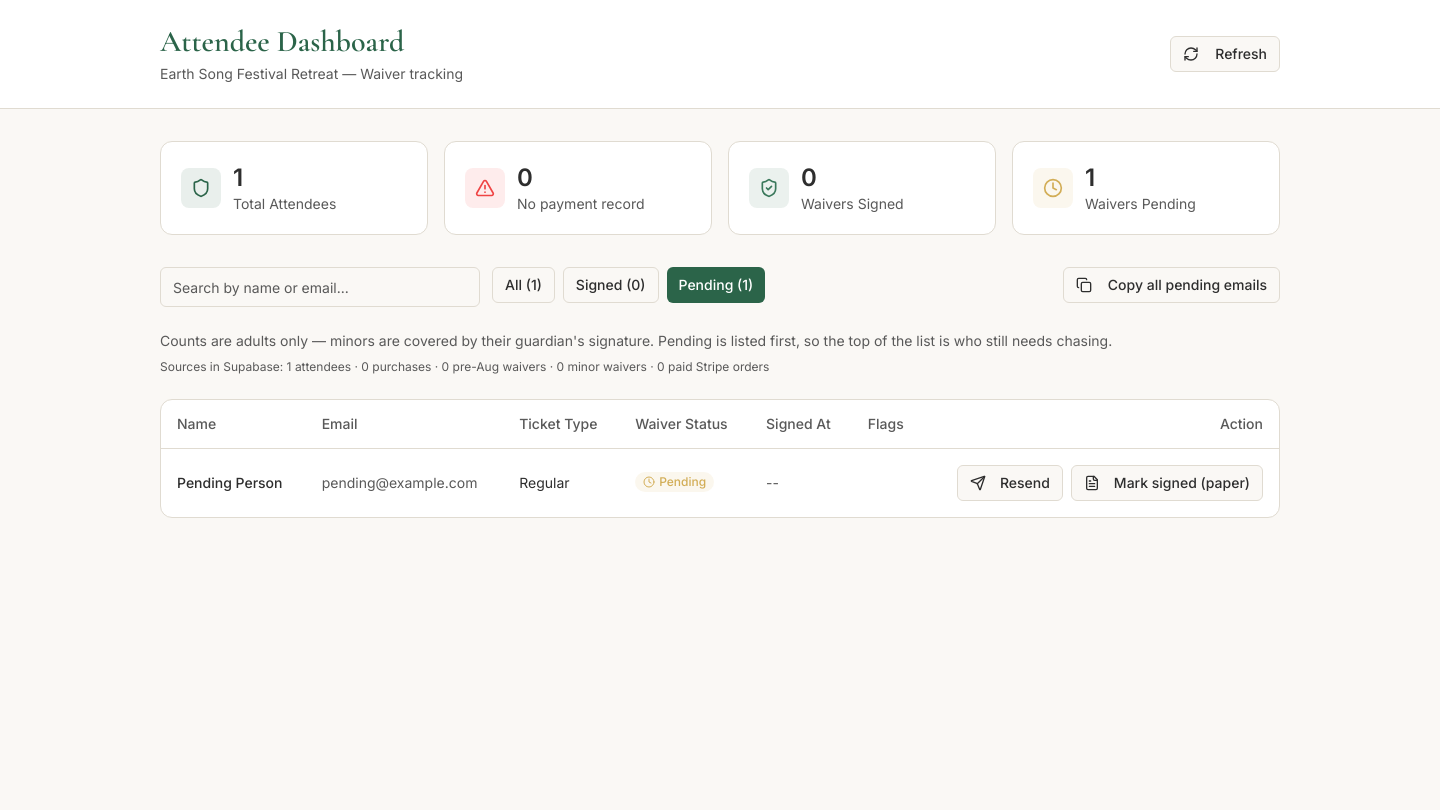
confirming a paper mark › sends nothing when the dialog is cancelled
The image size is (1440, 810).
Click the button "all (1)".
click(523, 285)  # box [492,267,555,303]
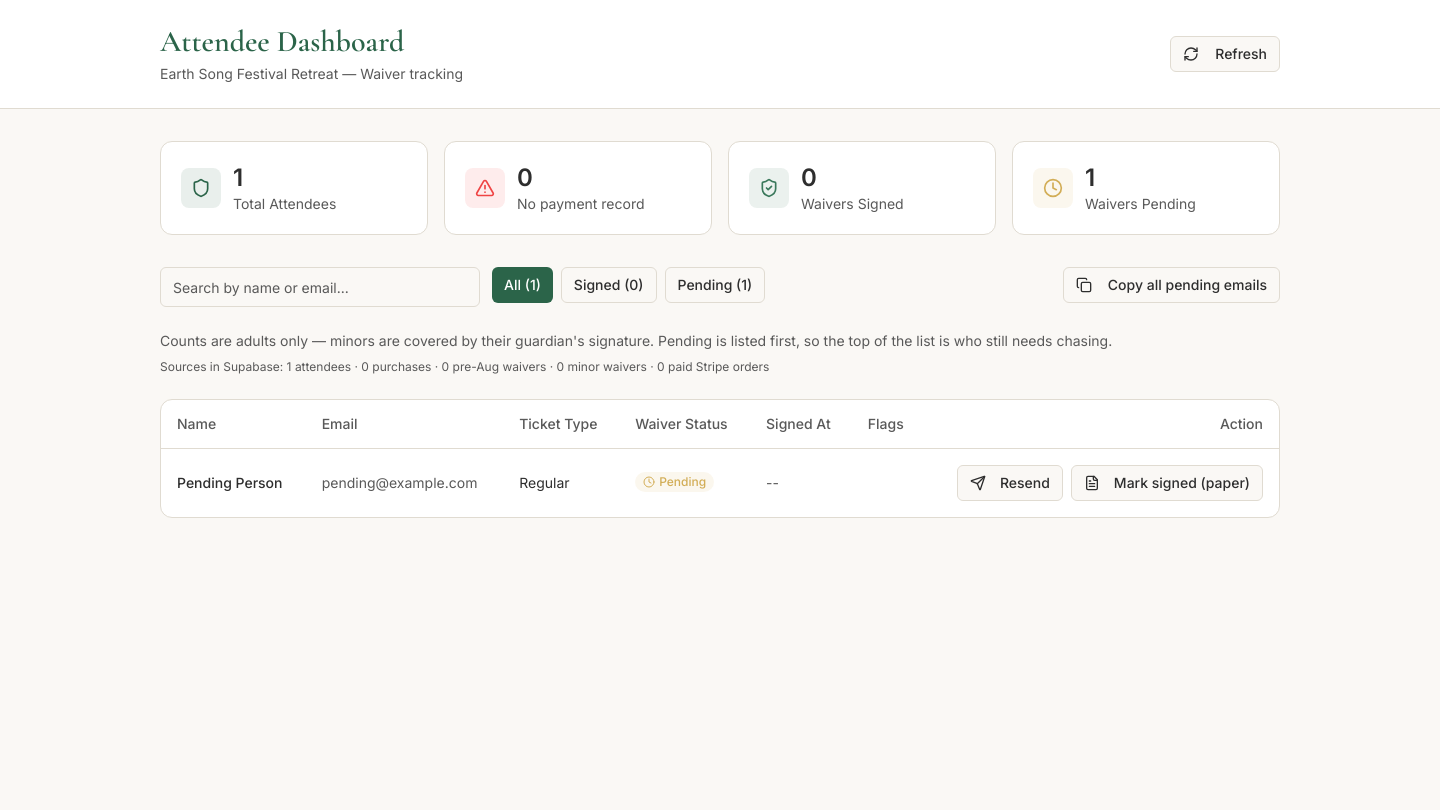
Click the button "Mark signed (paper)".
click(1167, 482)  # box [1071,464,1263,500]
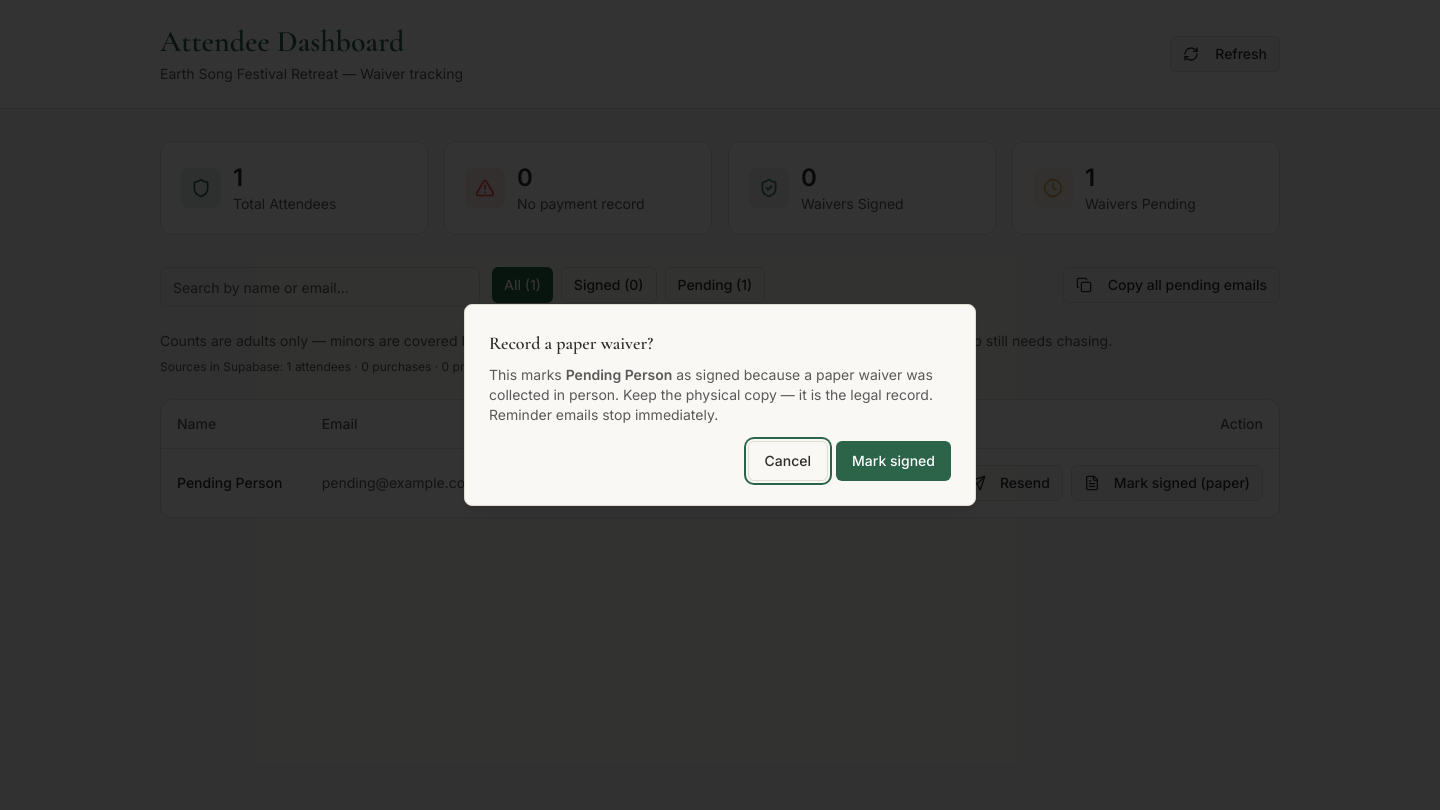
Click the button "Cancel".
click(788, 461)  # box [748,441,828,481]
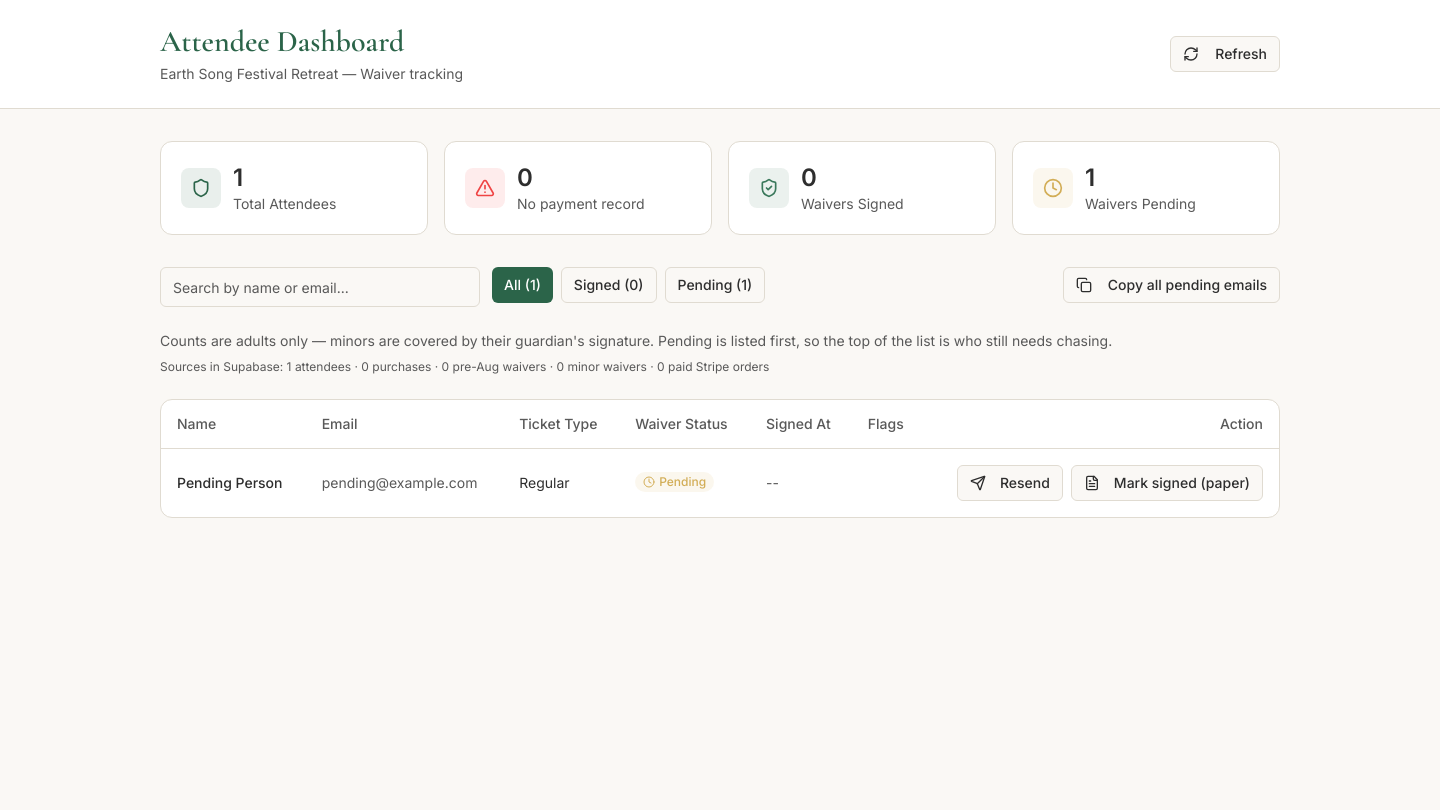
Check: the dialog is gone
